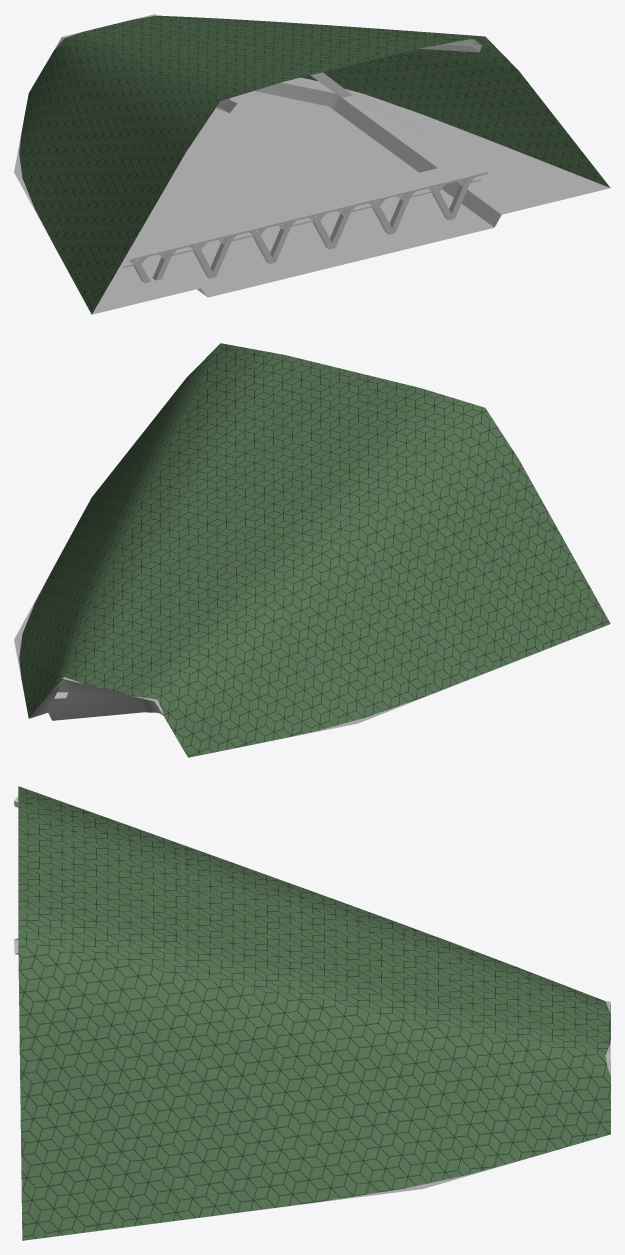
The model's file is space station.glb.
3 views of the same model, one above another, from view 1: azimuth 30°, elevation 25°; view 2: azimuth 150°, elevation 25°; view 3: azimuth 270°, elevation 25° (orthographic). The views are drawn at different scales.
Parts seen in each view (by area): view 1: glass, station, corridor; view 2: glass, station; view 3: glass, station.
Part boxes in pixels (x1,y1,x2,y2): glass: (19,15,610,314); station: (14,14,610,314); corridor: (120,160,487,283); glass: (19,343,610,757); station: (14,498,606,743); glass: (18,786,610,1240); station: (14,796,610,1240).
Bounding box in the file's own units: 72.51 × 26.6 × 59.56.
Materials: 2 (2 with a texture image).
